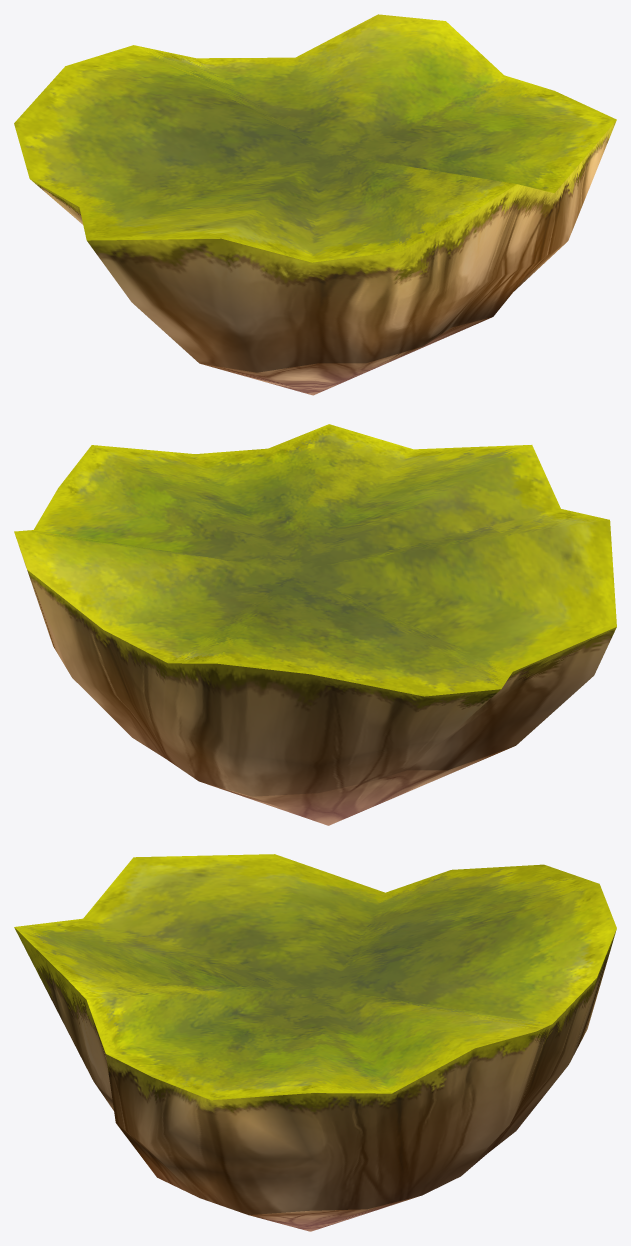
The model's file is Islas flotantes single.FBX.
3 views of the same model, one above another, from view 1: azimuth 30°, elevation 25°; view 2: azimuth 150°, elevation 25°; view 3: azimuth 270°, elevation 25° (orthographic). The views are drawn at different scales.
Visible parts, largest first — view 1: tierra_001; view 2: tierra_001; view 3: tierra_001.
Part boxes in pixels (x1,y1,x2,y2): tierra_001: [14, 14, 616, 395]; tierra_001: [14, 424, 616, 825]; tierra_001: [14, 854, 616, 1231].
Bounding box in the file's own units: 12.19 × 11.6 × 6.25.
1 material, 1 textured.
